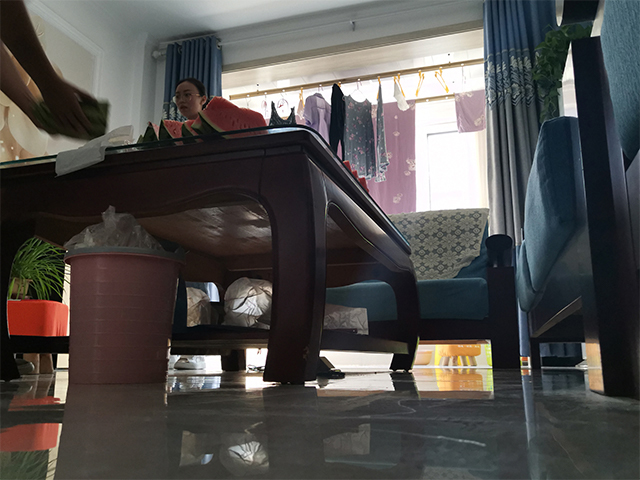curtain: (481, 1, 583, 359)
sofa: (512, 1, 639, 400), (306, 204, 527, 370)
table: (1, 122, 423, 386)
trashcan: (61, 244, 189, 388)
